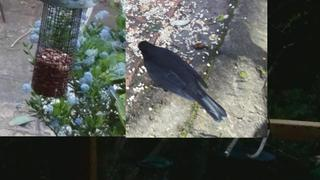blackbird: (137, 40, 227, 122)
